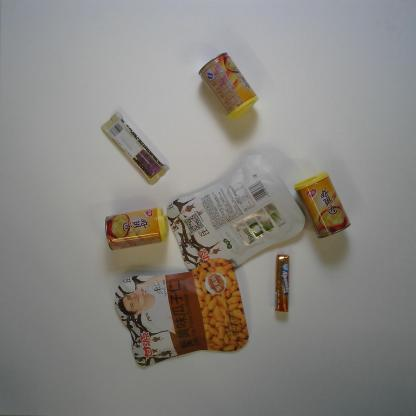Candy: (274, 254, 290, 313)
Canned Food: (196, 51, 259, 122), (293, 170, 353, 240), (102, 206, 170, 251)
Chocolate: (101, 112, 168, 186)
Dried Fruit: (165, 152, 307, 272), (113, 256, 250, 369)
